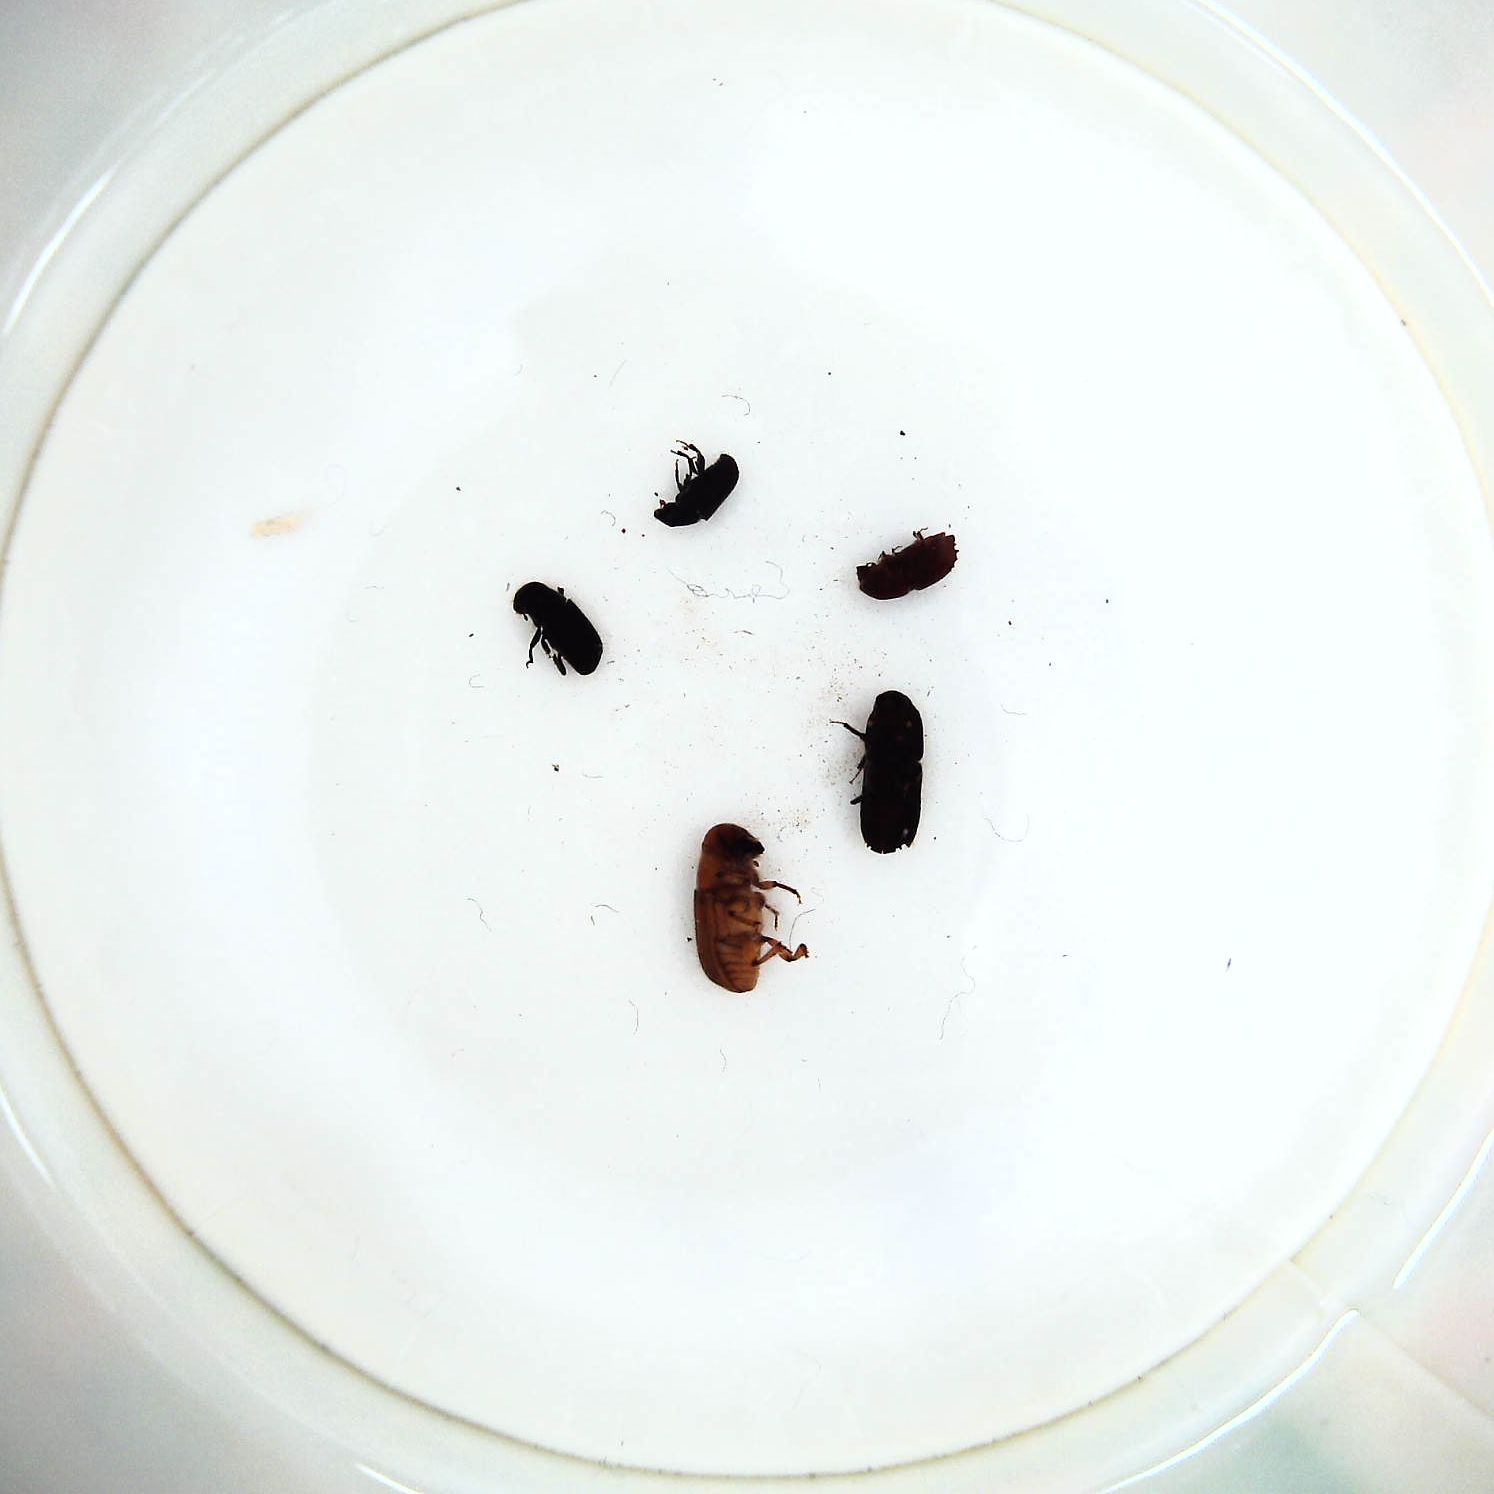Boerner: (850, 690, 928, 861)
Leconte: (692, 821, 814, 997)
armandi: (512, 577, 606, 684)
coleoptera: (651, 435, 742, 534)
linnaeus: (850, 525, 967, 606)
